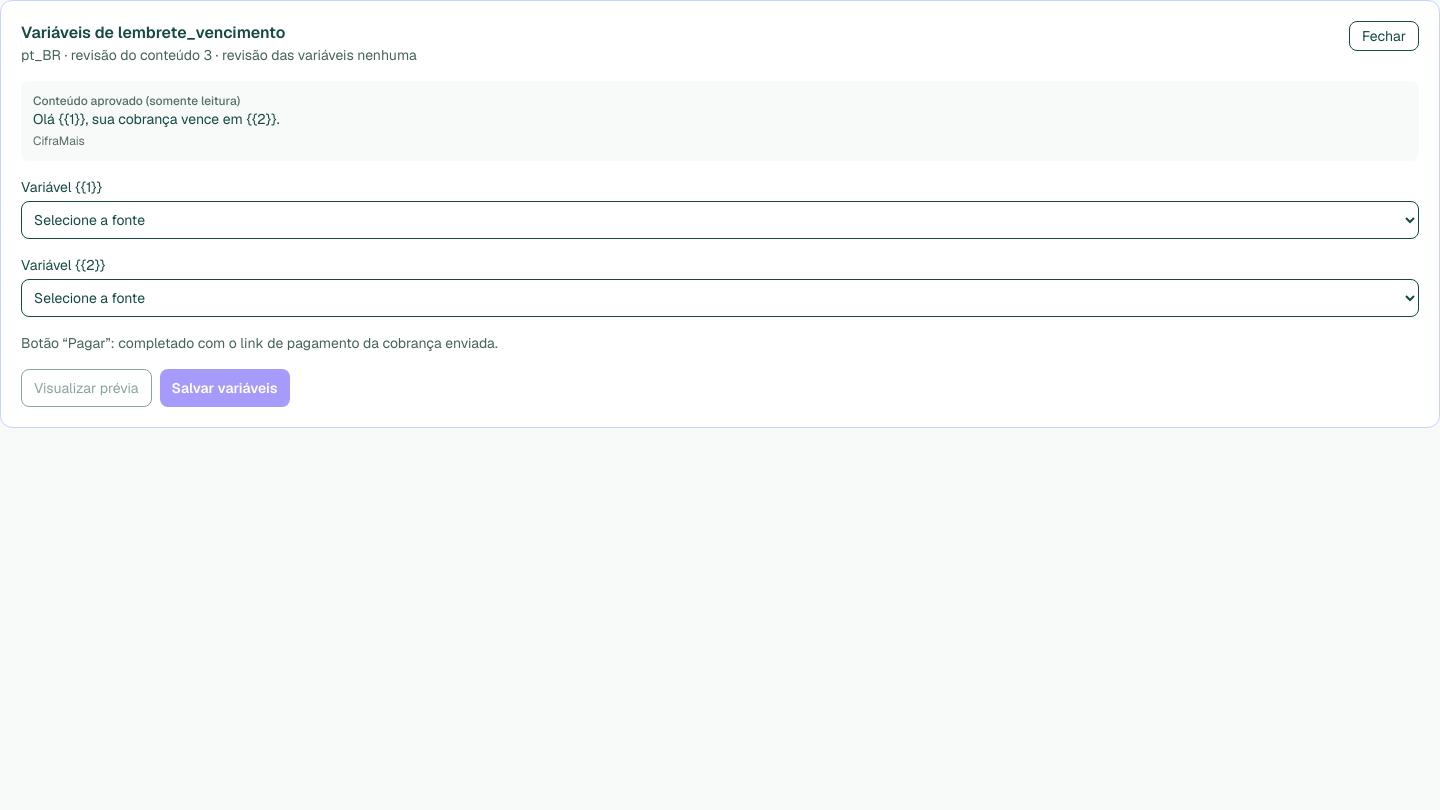
Test: TemplateMappingEditor › shows why a preview could not be filled
This screenshot has width=1440, height=810.
Select "Nome do devedor" in the dropdown labelled "Variável {{1}}" at x=720, y=220, box left=21, top=201, right=1419, bottom=239
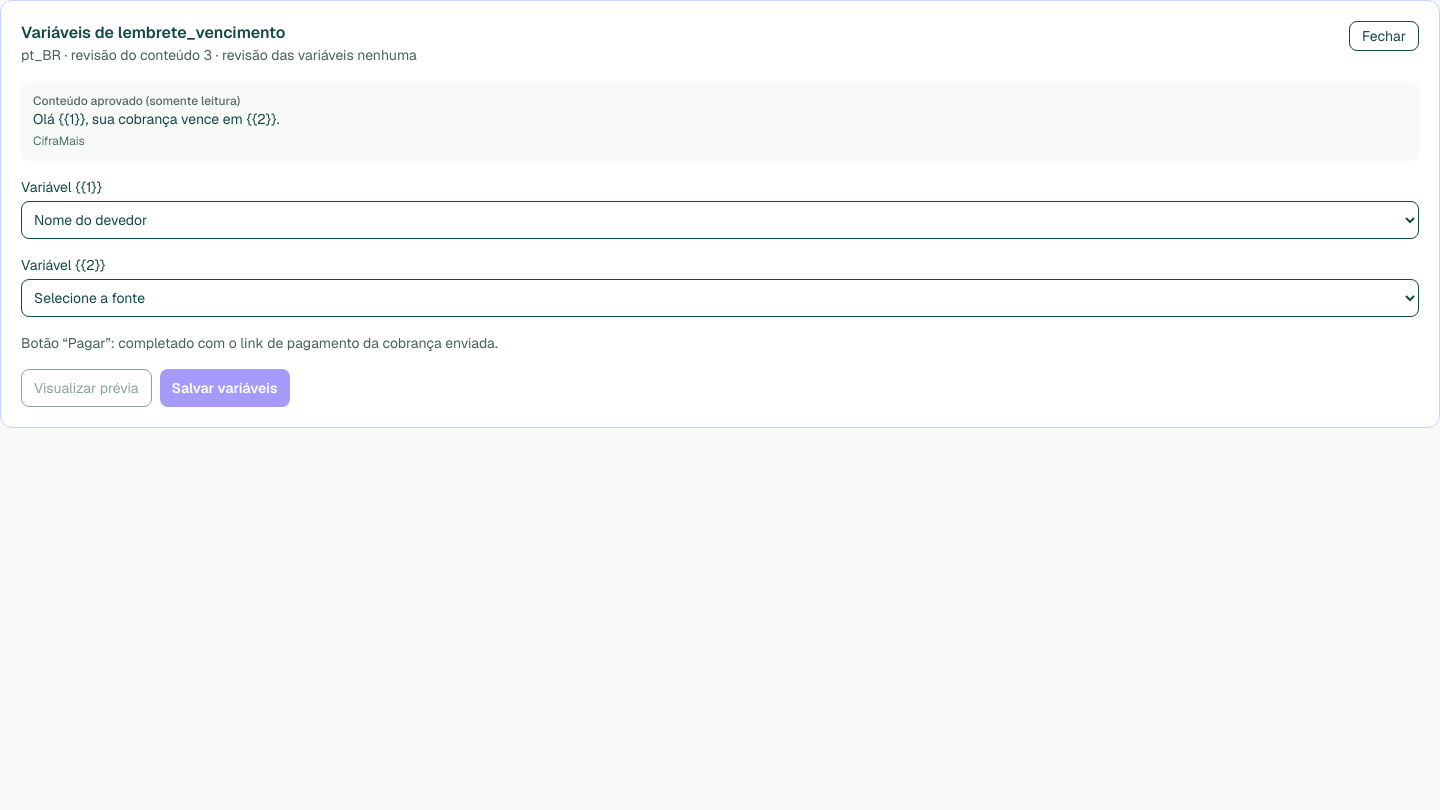
Select "Texto fixo" in the dropdown labelled "Variável {{2}}" at x=720, y=298, box left=21, top=279, right=1419, bottom=317
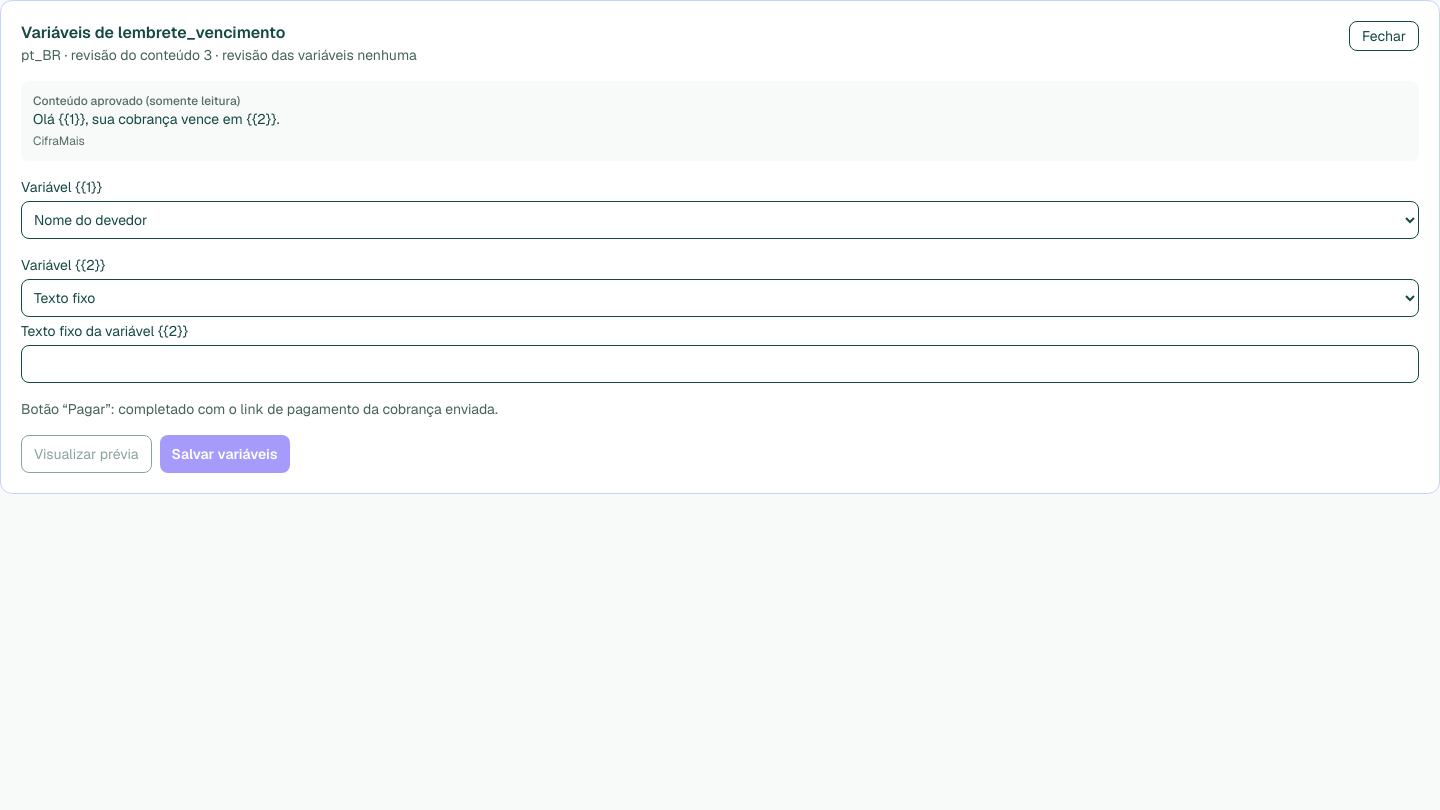
Type "breve" into the field labelled "Texto fixo da variável {{2}}" at x=720, y=364, box left=21, top=345, right=1419, bottom=383
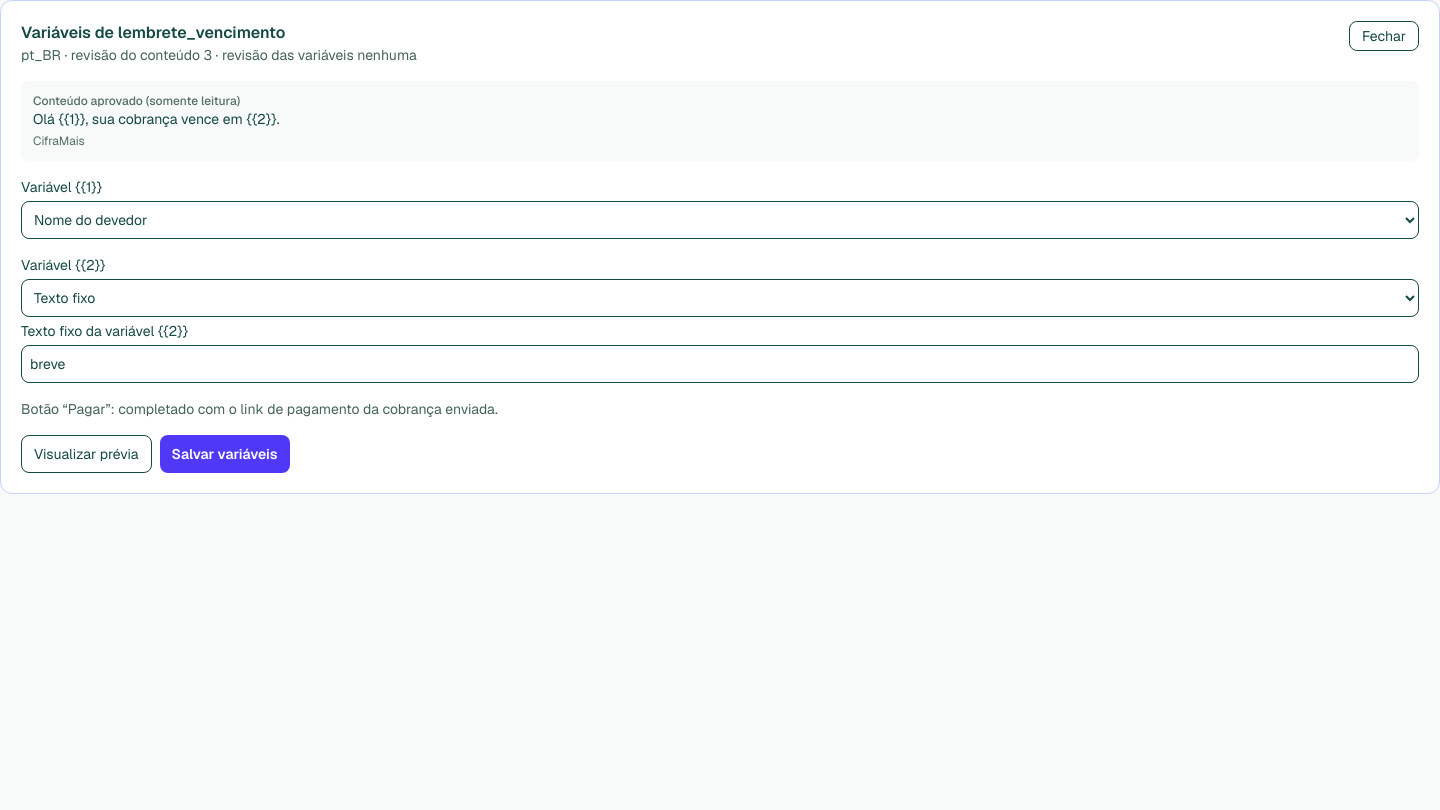
Click the button "Visualizar prévia" at x=86, y=454, box left=21, top=435, right=152, bottom=473
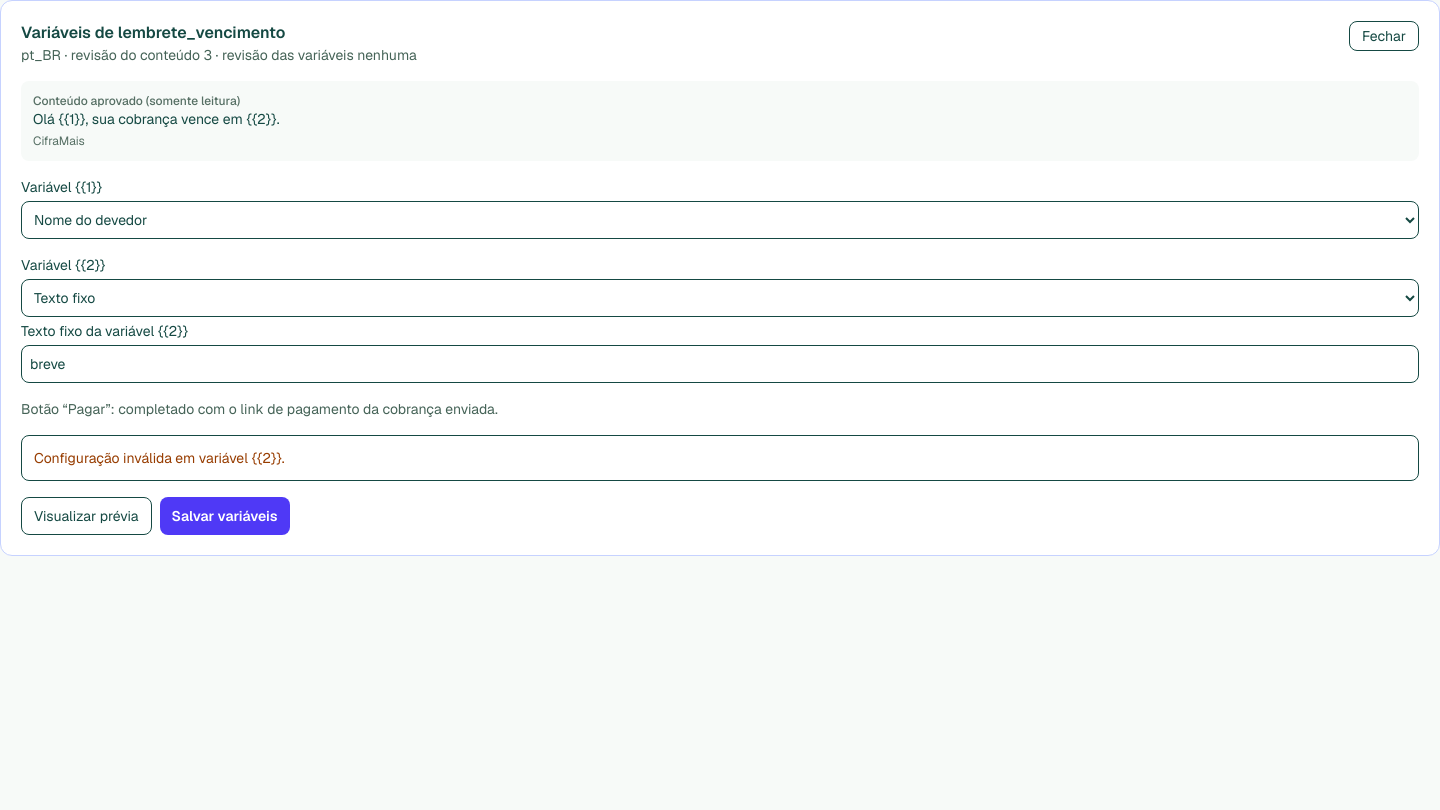
Check: the element named "Prévia fictícia" reads "Configuração inválida em variável {{2}}.", box left=34, top=449, right=285, bottom=467
